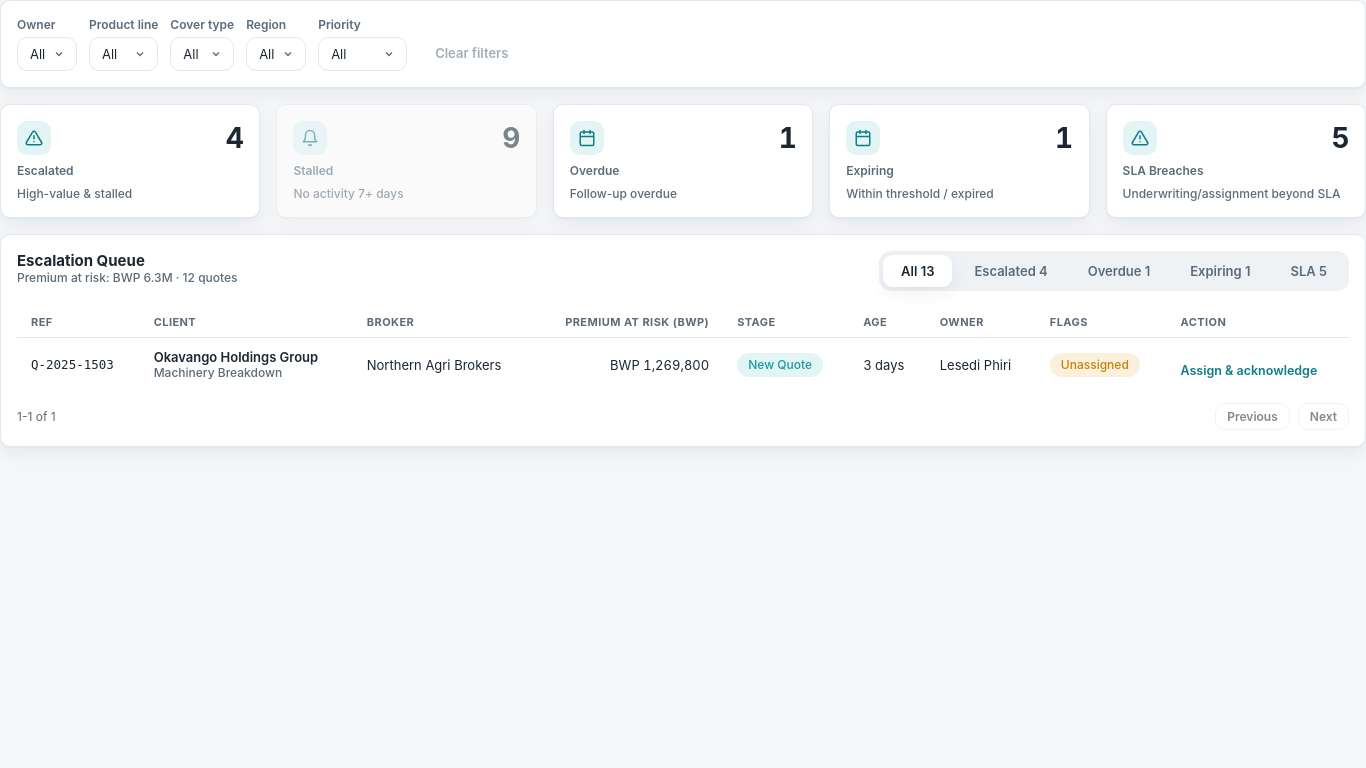
Test: AlertsCenterPage › assignAction_ShouldFetchLeadAndOpenAssignDialog
The image size is (1366, 768).
Click the button with test id "alert-action-link". click: click(1249, 370)
box: [1180,363,1317,378]
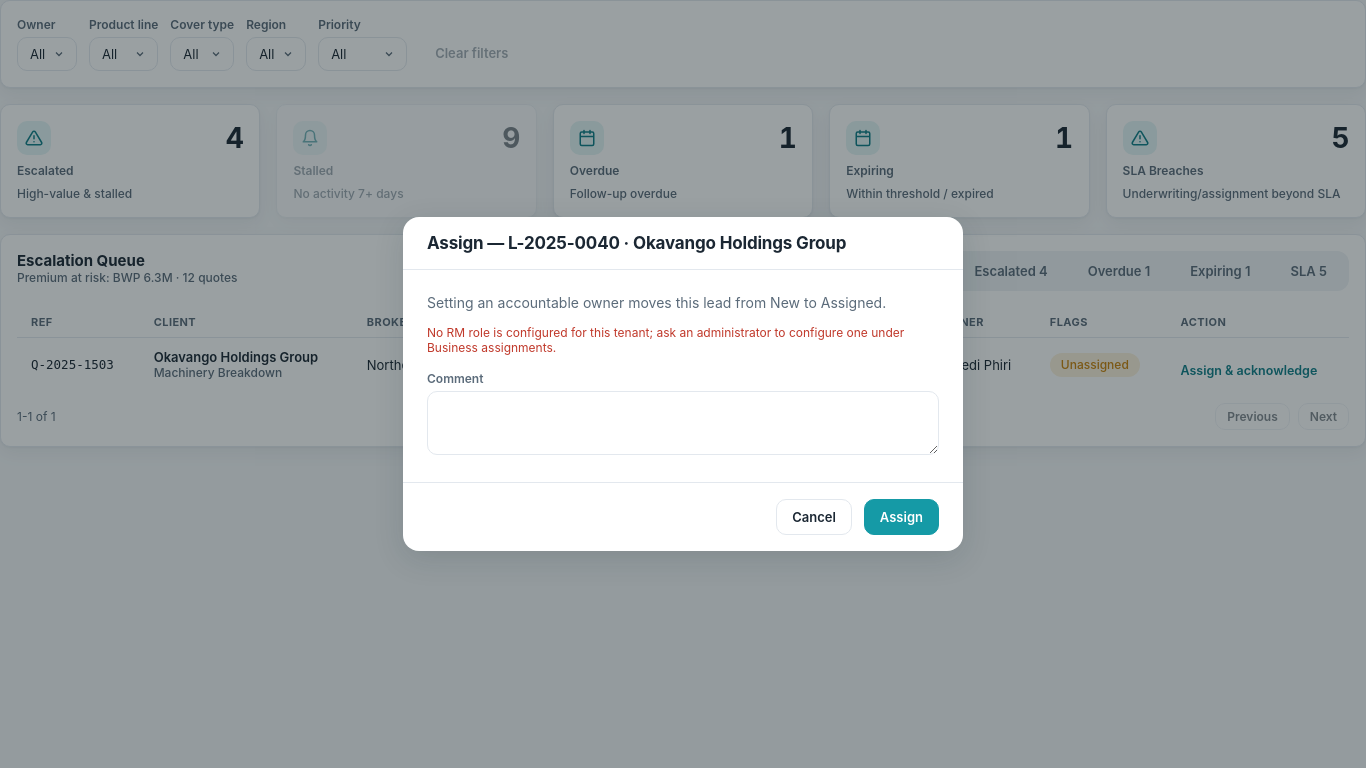
Expected: the element with test id "assign-dialog" is shown
